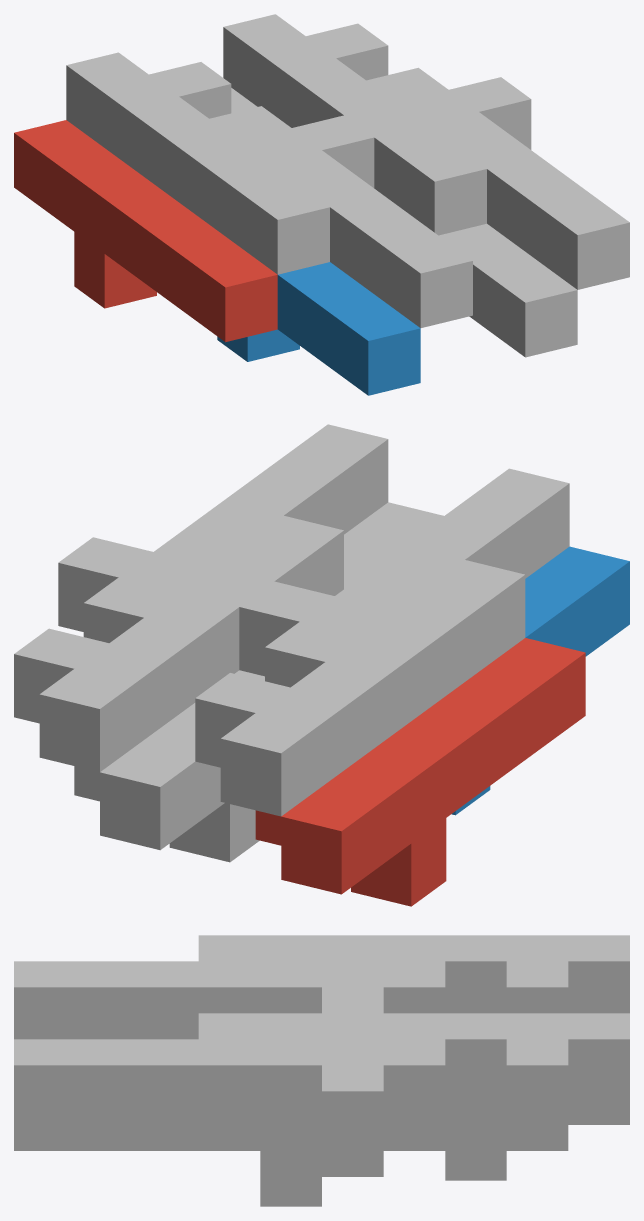
File: tiling.obj
The picture shows the model from 3 angles, top to bottom: view 1: azimuth 30°, elevation 25°; view 2: azimuth 150°, elevation 25°; view 3: azimuth 270°, elevation 25°; orthographic projection. The views are drawn at different scales.
Parts seen in each view (by area): view 1: copy_1_domain_1, copy_1_domain_3, copy_1_domain_7, copy_1_domain_4, copy_1_domain_8, copy_1_domain_2, copy_1_domain_6; view 2: copy_1_domain_1, copy_1_domain_3, copy_1_domain_7, copy_1_domain_8, copy_1_domain_4, copy_1_domain_5, copy_1_domain_2, copy_1_domain_6; view 3: copy_1_domain_8, copy_1_domain_4, copy_1_domain_7, copy_1_domain_3, copy_1_domain_6, copy_1_domain_5.
Boxes of the visible parts, <box> form: copy_1_domain_1: <box>14,120,277,342</box>; copy_1_domain_3: <box>66,52,329,274</box>; copy_1_domain_7: <box>223,14,486,235</box>; copy_1_domain_4: <box>209,106,472,327</box>; copy_1_domain_8: <box>366,67,629,289</box>; copy_1_domain_2: <box>217,262,420,395</box>; copy_1_domain_6: <box>439,223,577,357</box>; copy_1_domain_1: <box>255,638,585,906</box>; copy_1_domain_3: <box>195,560,525,816</box>; copy_1_domain_7: <box>14,515,343,772</box>; copy_1_domain_8: <box>58,424,388,642</box>; copy_1_domain_4: <box>239,468,569,687</box>; copy_1_domain_5: <box>74,670,264,862</box>; copy_1_domain_2: <box>451,546,629,815</box>; copy_1_domain_6: <box>344,502,443,588</box>; copy_1_domain_8: <box>14,1039,445,1176</box>; copy_1_domain_4: <box>14,961,445,1039</box>; copy_1_domain_7: <box>198,1013,629,1150</box>; copy_1_domain_3: <box>198,935,629,1013</box>; copy_1_domain_6: <box>14,1121,445,1206</box>; copy_1_domain_5: <box>445,1095,629,1180</box>.
Size of the model in its own units: 7 by 3 by 10.
